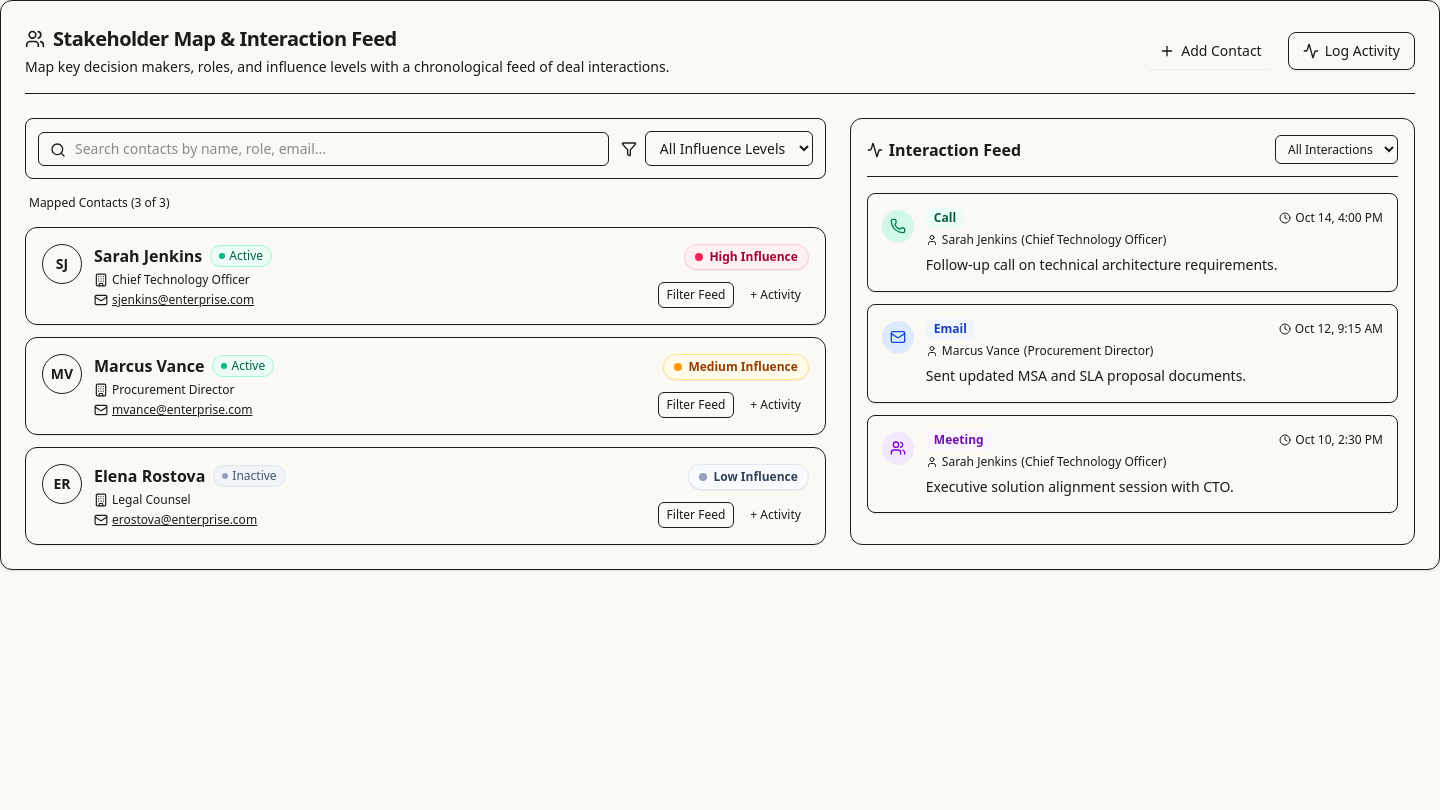
Test case: StakeholderMap Component [FR-006, FR-007] › Stakeholder Contact Mapping [FR-006] › opens modal and creates a new stakeholder contact
The image size is (1440, 810).
# Click "Add Contact" button
Click the button with test id "add-stakeholder-btn" at (1210, 51), box [1145,33,1276,69]
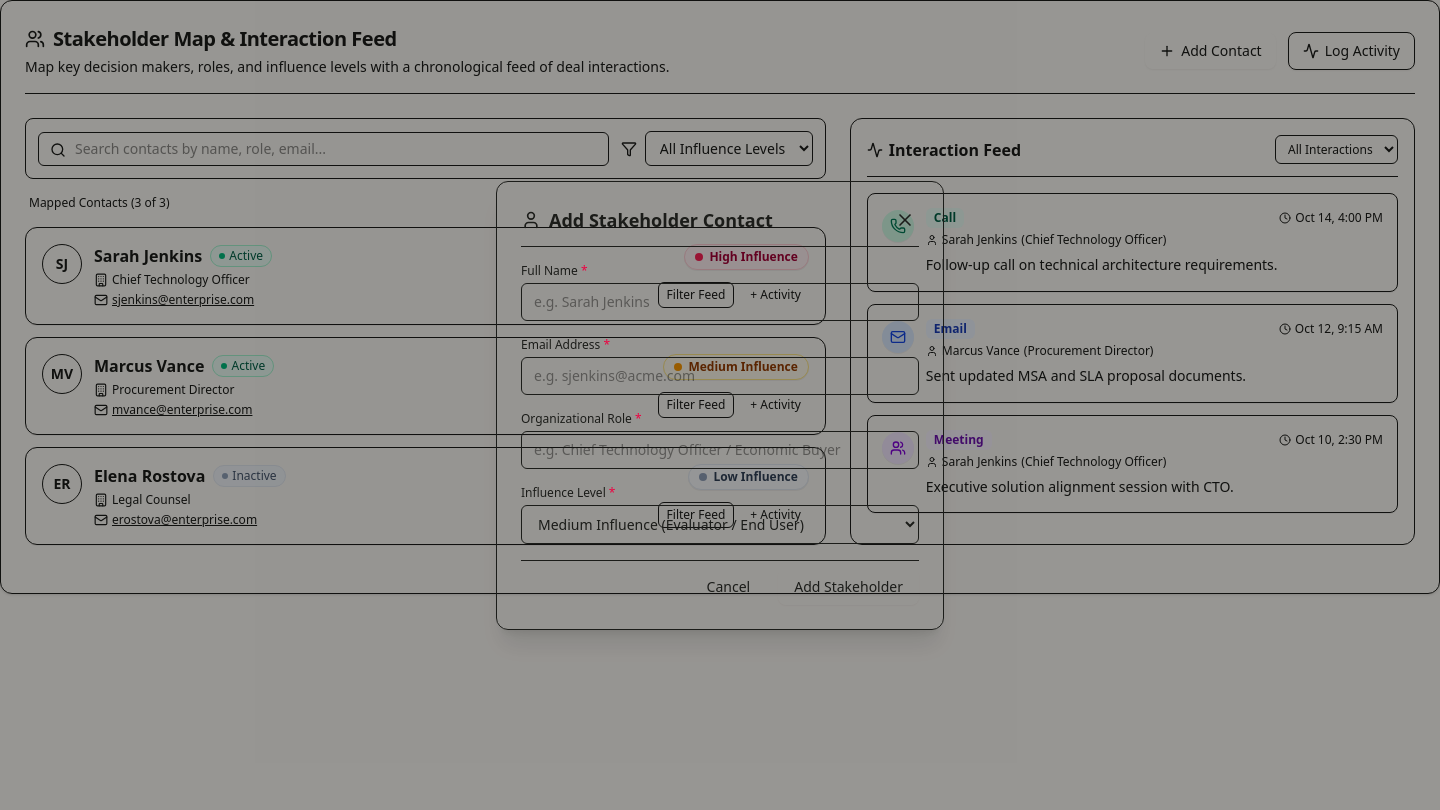
Expected: the form with test id "add-stakeholder-form" is shown, [521,262,919,604]
Type "David Miller" into the field with placeholder "e.g. Sarah Jenkins" at (720, 302), box [521,282,919,320]
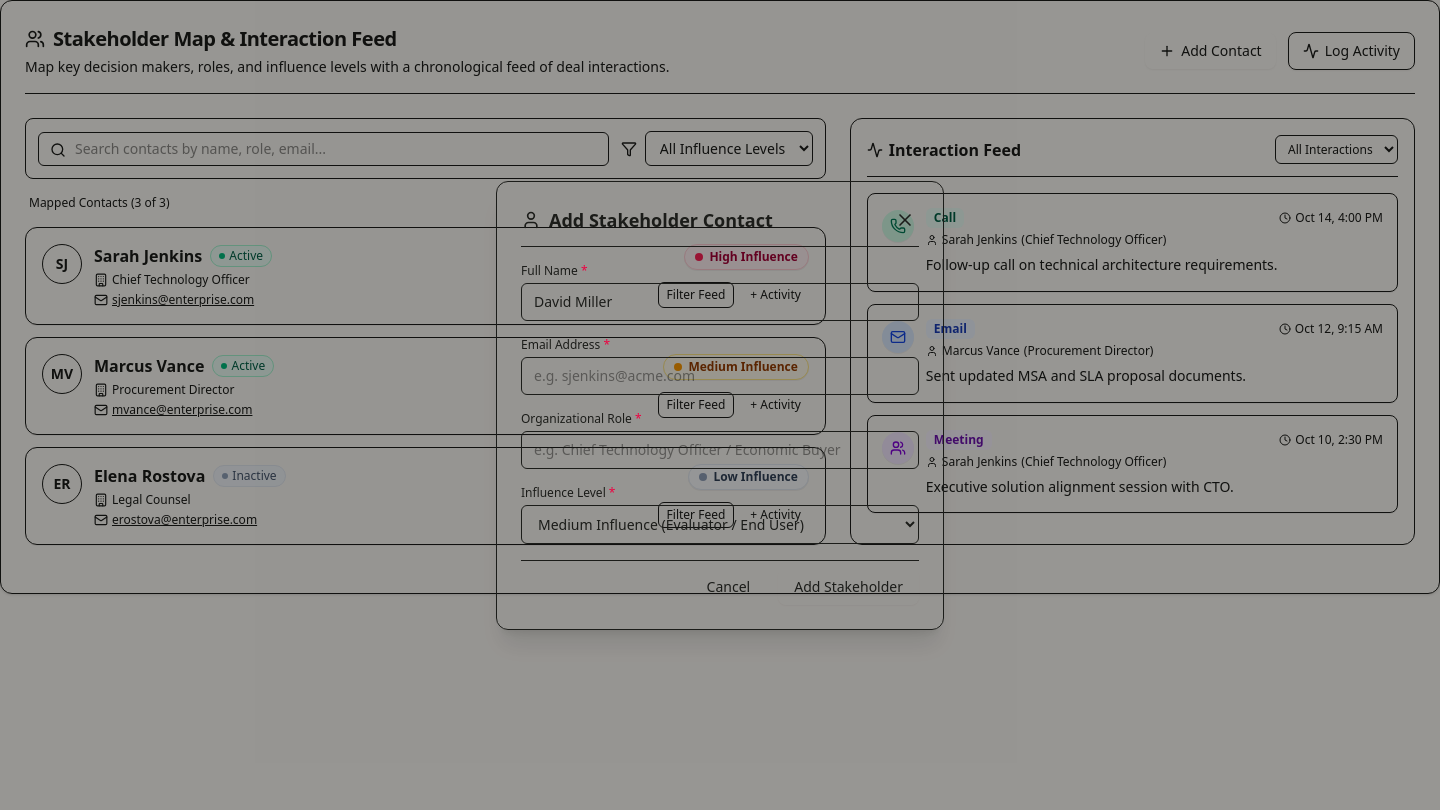
Type "dmiller@enterprise.com" into the field with placeholder "e.g. sjenkins@acme.com" at (720, 376), box [521,356,919,394]
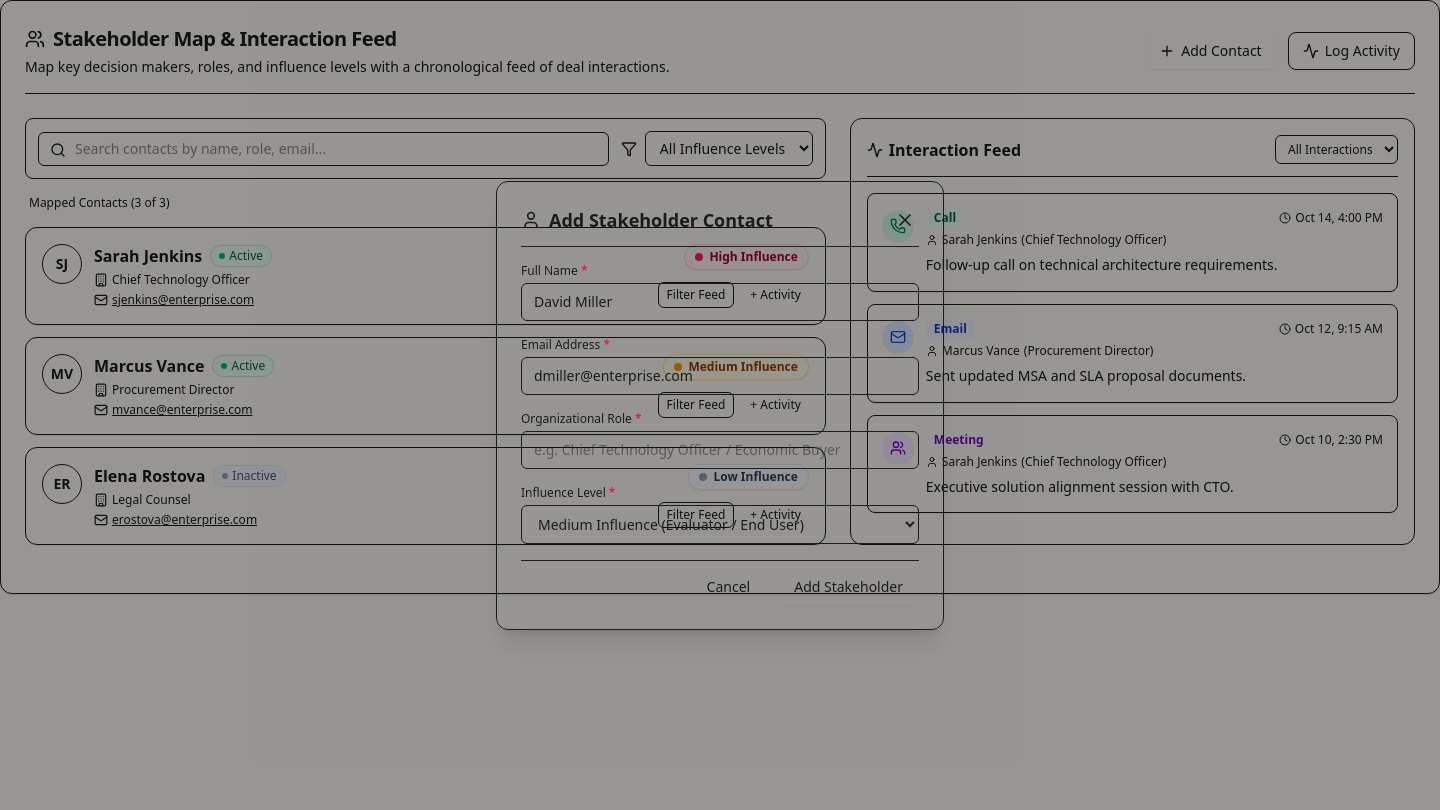
Type "VP Engineering" into the field with placeholder "e.g. Chief Technology Officer / Economic Buyer" at (720, 450), box [521,430,919,468]
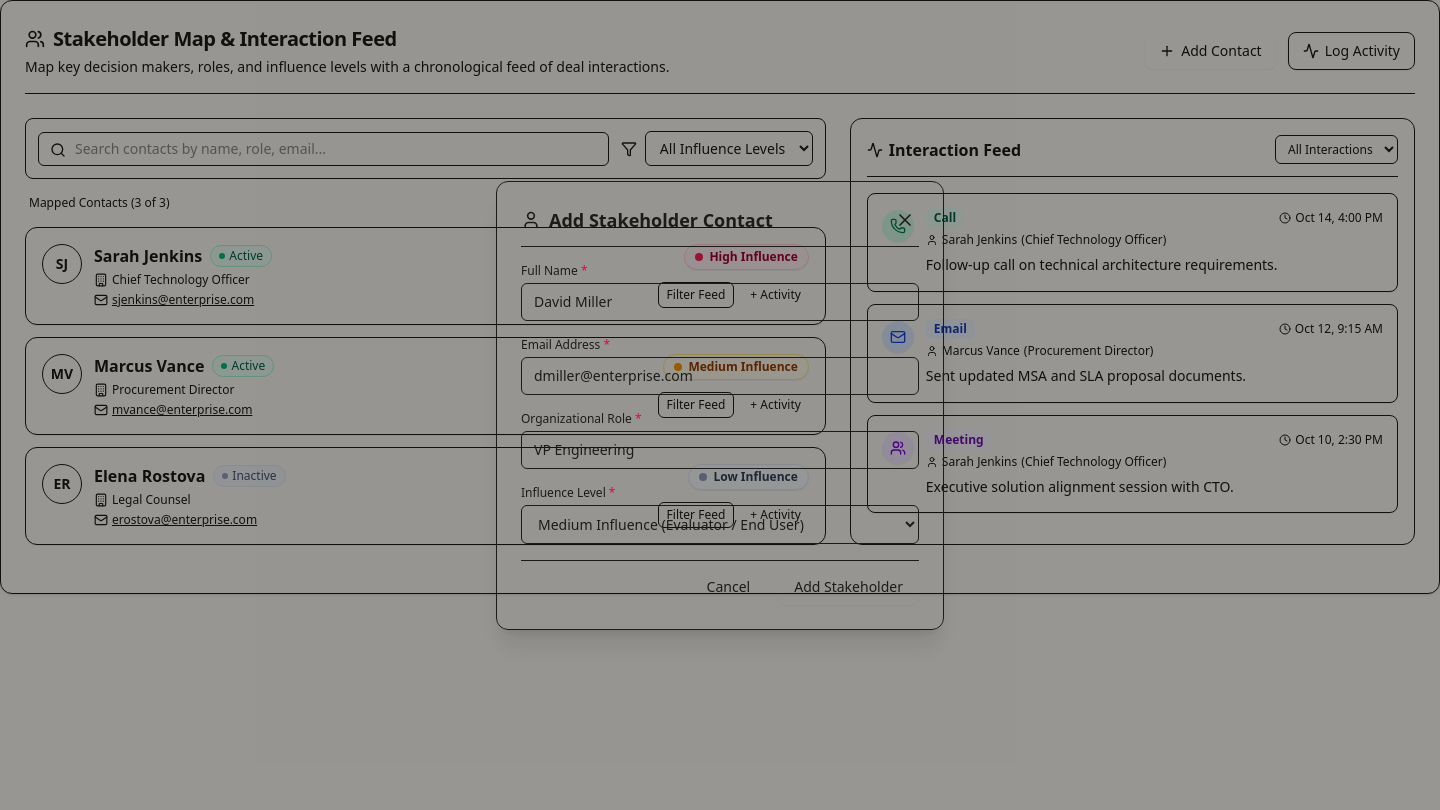
# Submit form
Submit the form with test id "add-stakeholder-form", box [521,262,919,604]
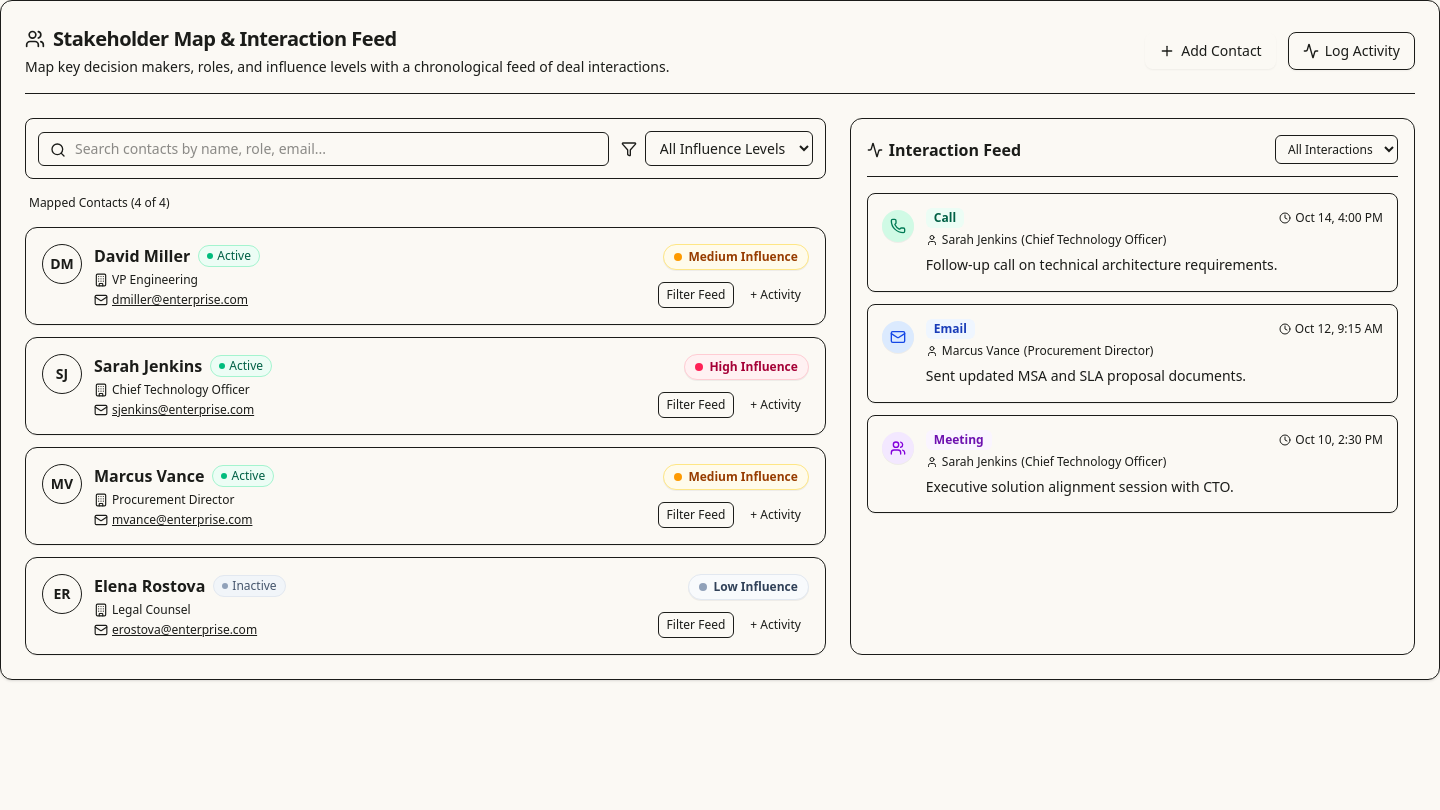
Expected: the heading "David Miller" is shown, [94,244,190,268]
Expected: the link "dmiller@enterprise.com" is shown, [112,292,248,308]
Expected: the text "VP Engineering" is shown, [112,272,198,288]
